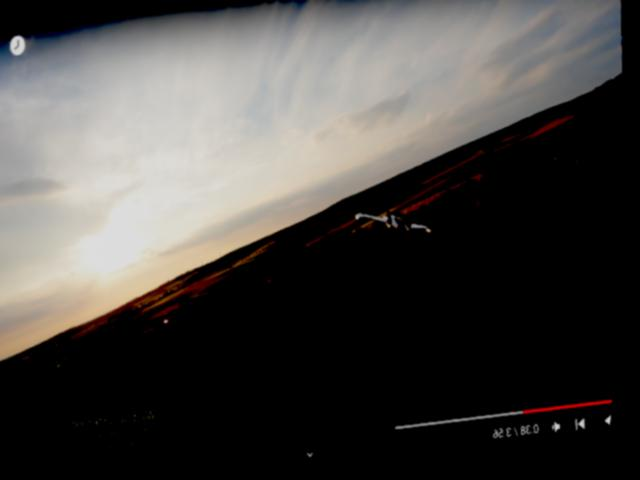plane: (357, 206, 436, 244)
